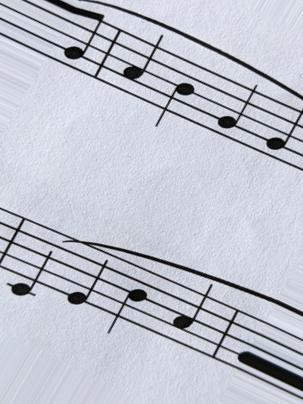A: (171, 279, 212, 368), (122, 26, 162, 110)
B: (112, 255, 149, 355), (158, 46, 199, 133)
E: (66, 235, 111, 315)
G: (217, 70, 257, 156), (264, 90, 303, 177)
LC: (5, 207, 53, 301)
